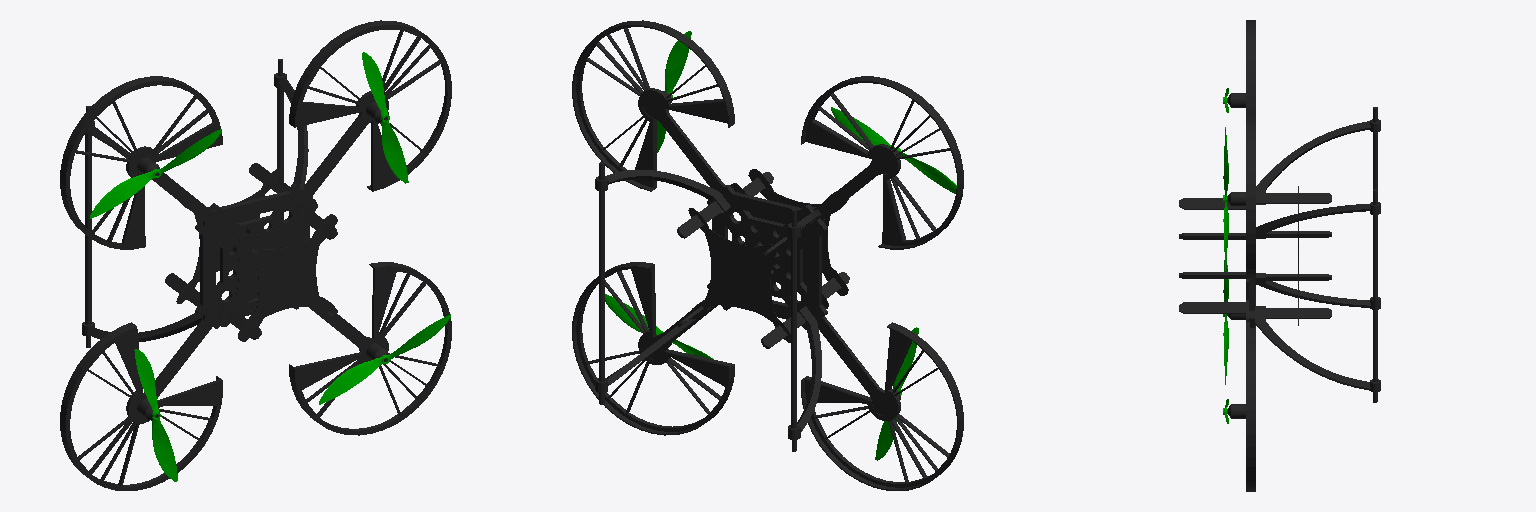
URDF robot description (mark_2):
<?xml version="1.0" encoding="utf-8"?>
<!-- This URDF was automatically created by SolidWorks to URDF Exporter! Originally created by [author] ([email redacted]) 
     Commit Version: 1.5.1-0-g916b5db  Build Version: 1.5.7152.31018
     For more information, please see http://wiki.ros.org/sw_urdf_exporter -->
<robot
  name="mark_2">
  <link
    name="base_link">
    <inertial>
      <origin
        xyz="-0.0157561779125294 0.0169557684665432 -0.0135297771464537"
        rpy="0 0 0" />
      <mass
        value="1.33564201756033" />
      <inertia
        ixx="0.00618039435380199"
        ixy="-2.45149334341306E-06"
        ixz="2.02898307066139E-07"
        iyy="0.00550369114109765"
        iyz="-3.82082974915117E-07"
        izz="0.00994613965190354" />
    </inertial>
    <visual>
      <origin
        xyz="0 0 0"
        rpy="0 0 0" />
      <geometry>
        <mesh
          filename="package://mark_2/meshes/base_link.STL" />
      </geometry>
      <material
        name="">
        <color
          rgba="0.188235294117647 0.188235294117647 0.188235294117647 1" />
      </material>
    </visual>
    <collision>
      <origin
        xyz="0 0 0"
        rpy="0 0 0" />
      <geometry>
        <mesh
          filename="package://mark_2/meshes/base_link.STL" />
      </geometry>
    </collision>
  </link>
  <link
    name="Link1">
    <inertial>
      <origin
        xyz="0.00500000631367845 0.00513631013261583 0.00379998650745414"
        rpy="0 0 0" />
      <mass
        value="0.00658310642453608" />
      <inertia
        ixx="2.90735946462185E-05"
        ixy="1.10606097992315E-13"
        ixz="4.22474465726563E-06"
        iyy="2.9882417633324E-05"
        iyz="-1.32190236977769E-13"
        izz="8.58411525056055E-07" />
    </inertial>
    <visual>
      <origin
        xyz="0 0 0"
        rpy="0 0 0" />
      <geometry>
        <mesh
          filename="package://mark_2/meshes/Link1.STL" />
      </geometry>
      <material
        name="">
        <color
          rgba="0 0.690196078431373 0 1" />
      </material>
    </visual>
    <collision>
      <origin
        xyz="0 0 0"
        rpy="0 0 0" />
      <geometry>
        <mesh
          filename="package://mark_2/meshes/Link1.STL" />
      </geometry>
    </collision>
  </link>
  <joint
    name="helice1"
    type="revolute">
    <origin
      xyz="-0.21411 -0.053124 -0.1835"
      rpy="-3.1416 0.07212 -3.1416" />
    <parent
      link="base_link" />
    <child
      link="Link1" />
    <axis
      xyz="0 1 0" />
    <limit
      lower="-3.14"
      upper="3.14"
      effort="0"
      velocity="0" />
  </joint>
  <link
    name="Link2">
    <inertial>
      <origin
        xyz="0.00500000639695575 0.00513624293030152 0.00379998603601131"
        rpy="0 0 0" />
      <mass
        value="0.00658321201338407" />
      <inertia
        ixx="2.90736492330161E-05"
        ixy="1.1123316437468E-13"
        ixz="4.22477041309329E-06"
        iyy="2.98824816431131E-05"
        iyz="-1.38380462043476E-13"
        izz="8.58424373172818E-07" />
    </inertial>
    <visual>
      <origin
        xyz="0 0 0"
        rpy="0 0 0" />
      <geometry>
        <mesh
          filename="package://mark_2/meshes/Link2.STL" />
      </geometry>
      <material
        name="">
        <color
          rgba="0 0.690196078431373 0 1" />
      </material>
    </visual>
    <collision>
      <origin
        xyz="0 0 0"
        rpy="0 0 0" />
      <geometry>
        <mesh
          filename="package://mark_2/meshes/Link2.STL" />
      </geometry>
    </collision>
  </link>
  <joint
    name="helice2"
    type="revolute">
    <origin
      xyz="0.19223 -0.053124 -0.19195"
      rpy="-3.1416 -1.4046 3.1416" />
    <parent
      link="base_link" />
    <child
      link="Link2" />
    <axis
      xyz="0 1 0" />
    <limit
      lower="-3.14"
      upper="3.14"
      effort="0"
      velocity="0" />
  </joint>
  <link
    name="Link3">
    <inertial>
      <origin
        xyz="0.00500000368172962 0.00513630554583948 0.00379999975113826"
        rpy="0 0 0" />
      <mass
        value="0.00658311377877217" />
      <inertia
        ixx="2.90735882667547E-05"
        ixy="8.5316424541273E-14"
        ixz="4.22474417013195E-06"
        iyy="2.98824113539954E-05"
        iyz="-7.62849179809664E-15"
        izz="8.58411836546445E-07" />
    </inertial>
    <visual>
      <origin
        xyz="0 0 0"
        rpy="0 0 0" />
      <geometry>
        <mesh
          filename="package://mark_2/meshes/Link3.STL" />
      </geometry>
      <material
        name="">
        <color
          rgba="0 0.690196078431373 0 1" />
      </material>
    </visual>
    <collision>
      <origin
        xyz="0 0 0"
        rpy="0 0 0" />
      <geometry>
        <mesh
          filename="package://mark_2/meshes/Link3.STL" />
      </geometry>
    </collision>
  </link>
  <joint
    name="helice3"
    type="revolute">
    <origin
      xyz="0.18304 -0.053124 0.21816"
      rpy="0 -0.09735 0" />
    <parent
      link="base_link" />
    <child
      link="Link3" />
    <axis
      xyz="0 1 0" />
    <limit
      lower="-3.14"
      upper="3.14"
      effort="0"
      velocity="0" />
  </joint>
  <link
    name="Link4">
    <inertial>
      <origin
        xyz="0.00500000639619658 0.00513624292126846 0.00379998604308254"
        rpy="0 0 0" />
      <mass
        value="0.00658321204909001" />
      <inertia
        ixx="2.90736495575995E-05"
        ixy="1.11247003430512E-13"
        ixz="4.22477048858704E-06"
        iyy="2.98824819853732E-05"
        iyz="-1.38349401817883E-13"
        izz="8.5842439102053E-07" />
    </inertial>
    <visual>
      <origin
        xyz="0 0 0"
        rpy="0 0 0" />
      <geometry>
        <mesh
          filename="package://mark_2/meshes/Link4.STL" />
      </geometry>
      <material
        name="">
        <color
          rgba="0 0.690196078431373 0 1" />
      </material>
    </visual>
    <collision>
      <origin
        xyz="0 0 0"
        rpy="0 0 0" />
      <geometry>
        <mesh
          filename="package://mark_2/meshes/Link4.STL" />
      </geometry>
    </collision>
  </link>
  <joint
    name="helice4"
    type="revolute">
    <origin
      xyz="-0.22339 -0.053124 0.22674"
      rpy="0 1.407 0" />
    <parent
      link="base_link" />
    <child
      link="Link4" />
    <axis
      xyz="0 1 0" />
    <limit
      lower="-3.14"
      upper="3.14"
      effort="0"
      velocity="0" />
  </joint>
</robot>

--- Facts derived from the render (not from the file) ---
Views: 3 orthographic renders of the robot side by side, from view 1: azimuth 30°, elevation 25°; view 2: azimuth 150°, elevation 25°; view 3: azimuth 270°, elevation 25°.
Robot: mark_2 — 5 links, 4 joints (4 revolute); root link base_link; default pose: every joint at zero.
Visible links, largest first — view 1: base_link, Link4, Link1, Link2, Link3; view 2: base_link, Link4, Link3, Link1, Link2; view 3: base_link.
Link boxes in pixels (x1,y1,x2,y2): base_link: [60, 20, 451, 490]; Link4: [90, 129, 221, 218]; Link1: [134, 349, 177, 481]; Link2: [319, 314, 450, 404]; Link3: [362, 52, 408, 183]; base_link: [572, 20, 963, 490]; Link4: [831, 107, 962, 196]; Link3: [657, 31, 691, 152]; Link1: [875, 327, 918, 460]; Link2: [605, 294, 733, 382]; base_link: [1179, 20, 1380, 491].
Size in the robot's own frame: 0.6865 by 0.3534 by 0.69 metres.
5 mesh visuals loaded from 5 distinct referenced files (5 binary STL).
